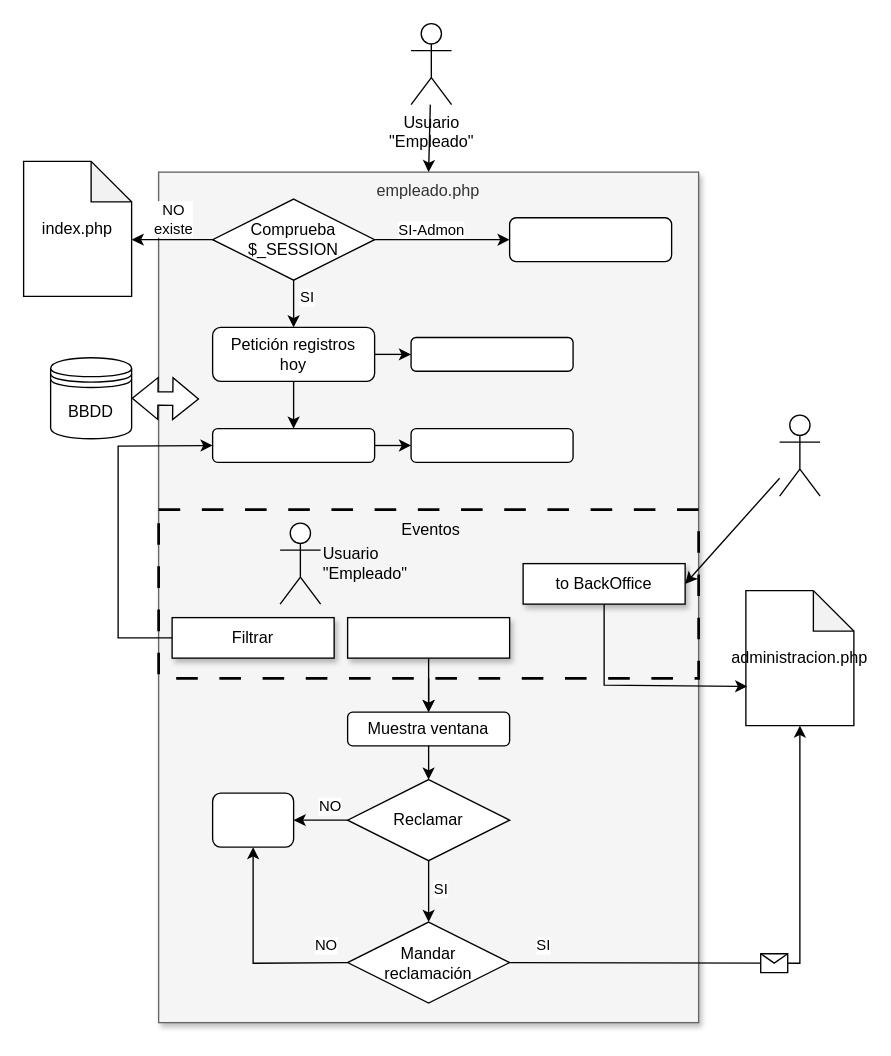
The diagram is 891 pixels wide and 1056 high, and some of its shapes have lost their labels. The shapes that lost their labels are listed below. From the top down, each one's centre as x and y in pixels, then its label:
point 590,239: Muestra botón BackOffice
point 491,353: Mostrar hoy
point 293,444: Petición histórico
point 491,444: Mostrar histórico
point 799,455: Usuario "Empleado Administración"
point 429,639: Ver registro de línea
point 252,819: Cerrar Ventana
